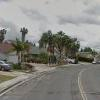Tree: (38, 23, 78, 67)
